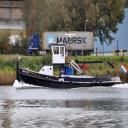tugboat: (16, 42, 124, 92)
